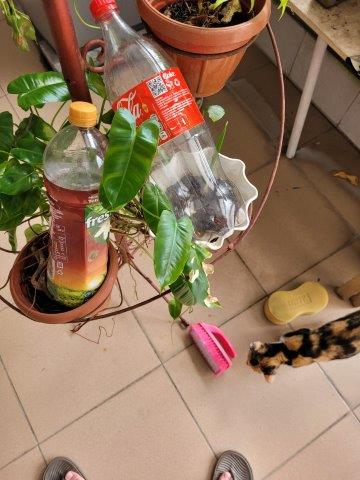botolplastik: (90, 3, 250, 245), (46, 102, 113, 304)
